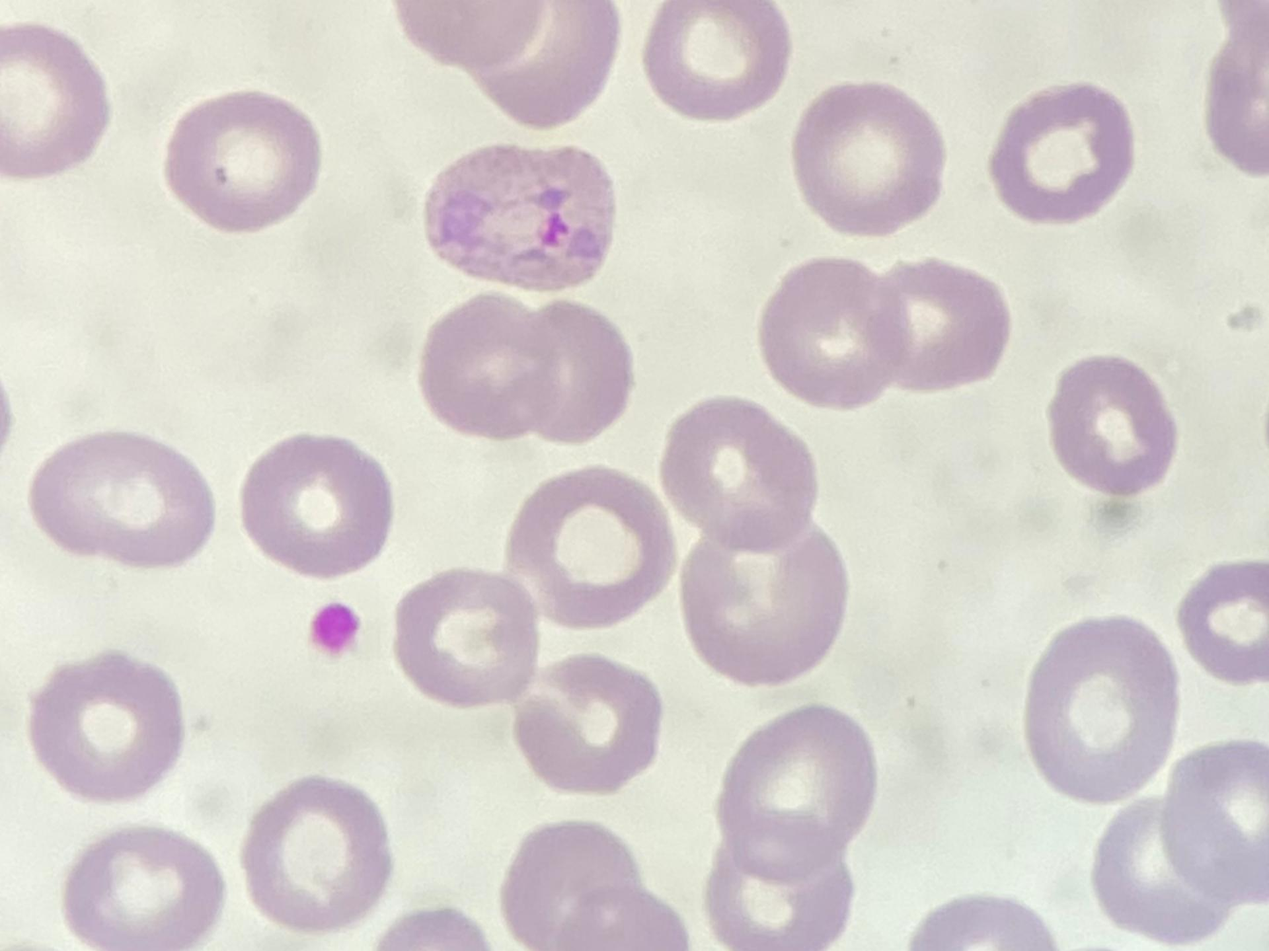Infected: (426, 142, 611, 295)
Uninfected: (1028, 615, 1182, 800), (684, 514, 847, 686), (720, 706, 878, 880), (509, 468, 675, 627), (31, 430, 213, 568), (793, 78, 944, 239), (241, 777, 396, 933), (30, 651, 184, 807), (664, 395, 816, 552), (760, 258, 906, 412), (1094, 790, 1239, 942), (165, 95, 323, 232), (512, 651, 660, 796), (243, 433, 392, 577), (993, 85, 1136, 225), (864, 256, 1009, 394), (63, 828, 223, 951), (471, 0, 621, 129), (400, 572, 541, 709), (504, 818, 648, 951), (420, 301, 551, 441), (643, 0, 791, 123), (1049, 356, 1176, 499), (709, 825, 852, 951), (512, 303, 633, 444), (0, 28, 110, 180), (1167, 739, 1269, 901)
